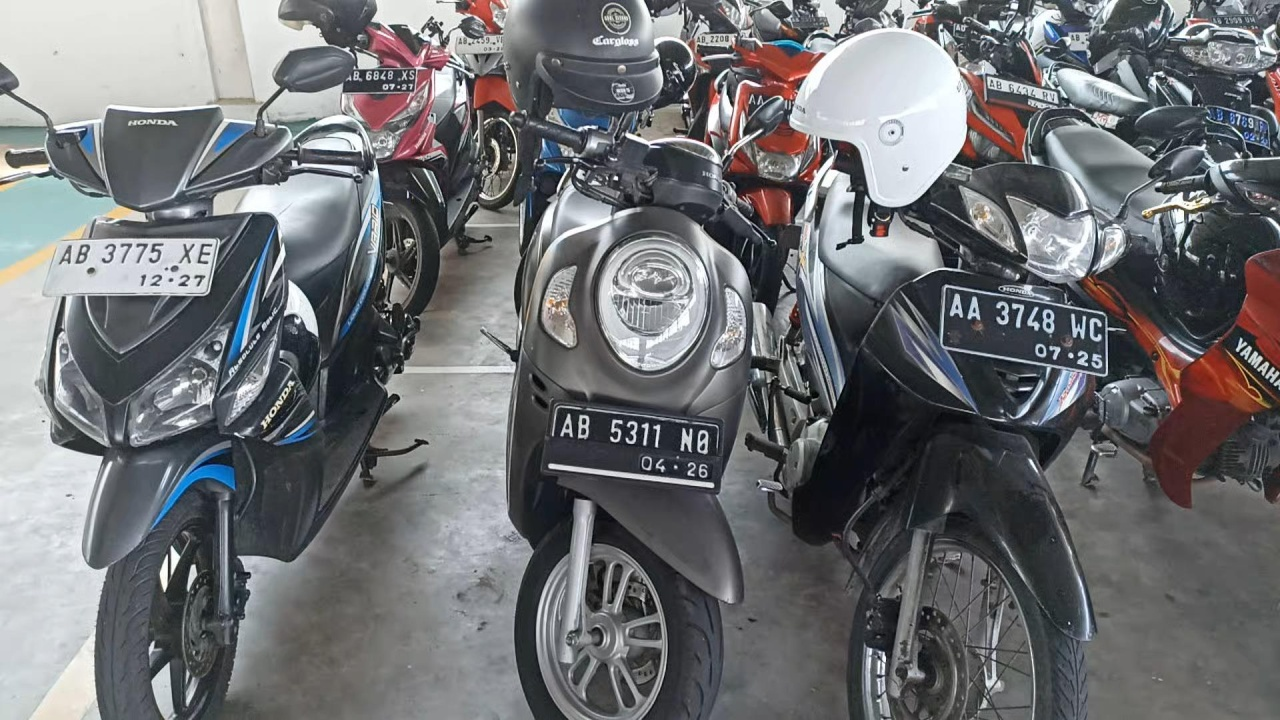plate: (941, 284, 1108, 376), (546, 404, 720, 490), (41, 237, 220, 296)
